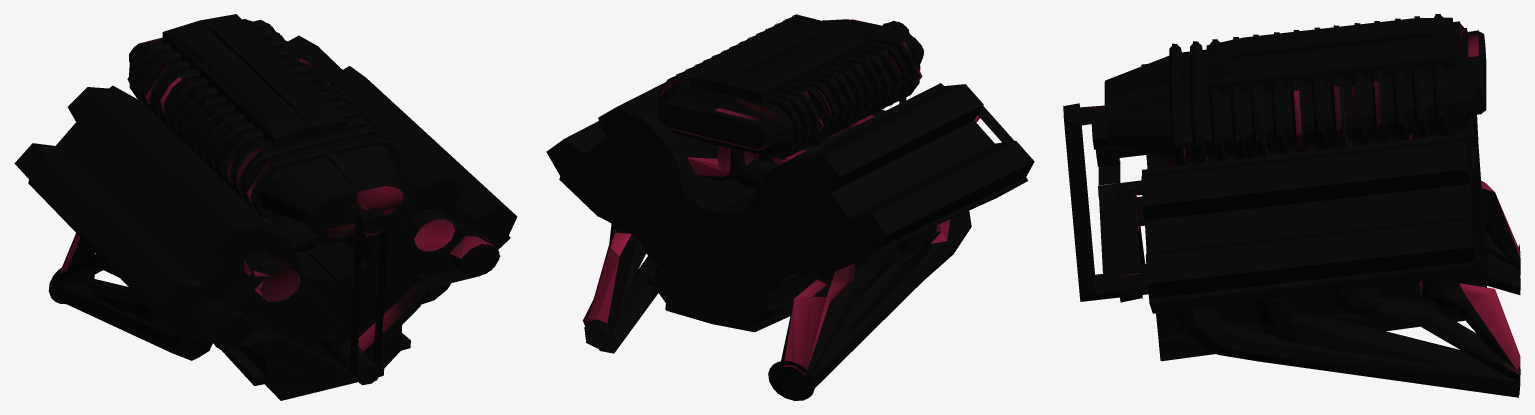
3 renders of one model, left to right at view 1: azimuth 30°, elevation 25°; view 2: azimuth 150°, elevation 25°; view 3: azimuth 270°, elevation 25°, orthographic. The views are drawn at different scales.
Parts seen in each view (by area): view 1: motor_body.001; view 2: motor_body.001; view 3: motor_body.001.
Boxes of the visible parts, x1,y1,x2,y2 form: motor_body.001: [14, 14, 517, 400]; motor_body.001: [546, 14, 1034, 400]; motor_body.001: [1063, 14, 1520, 397].
Bounding box in the file's own units: 0.5584 × 0.4187 × 0.559.
